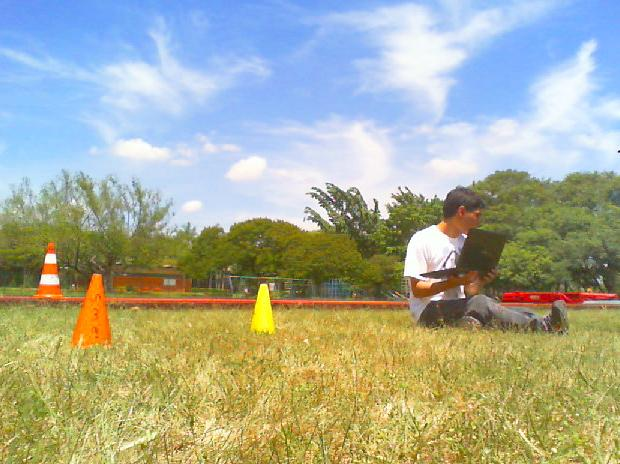0 cone: (71, 274, 111, 348), (31, 241, 65, 299), (250, 283, 276, 332)
